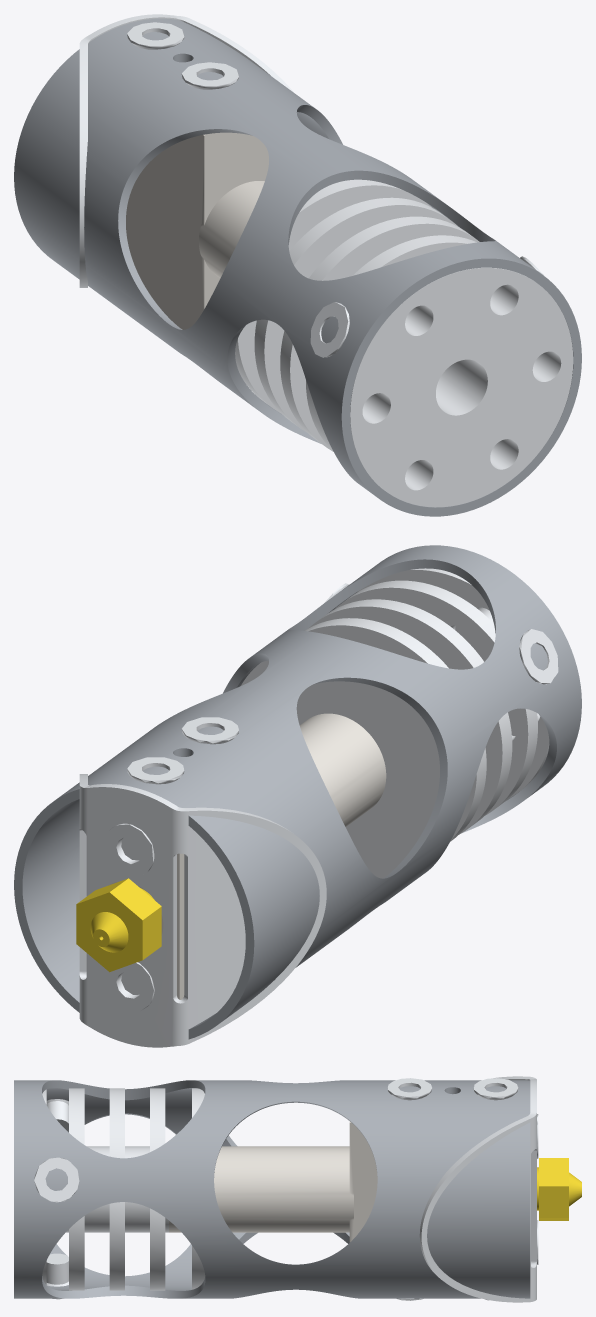
3 views of the same model, one above another, from view 1: azimuth 30°, elevation 25°; view 2: azimuth 150°, elevation 25°; view 3: azimuth 270°, elevation 25° (orthographic). The views are drawn at different scales.
Parts seen in each view (by area): view 1: ti_monocoque_shell, air_heatsink_fins, copper_melt_core, heat_shield, torx_screw_1, torx_screw_3, torx_screw_5; view 2: ti_monocoque_shell, air_heatsink_fins, heat_shield, copper_melt_core, e3d_v6_nozzle, torx_screw_7, torx_screw_8, torx_screw_1, torx_screw_5, torx_screw_3; view 3: ti_monocoque_shell, copper_melt_core, air_heatsink_fins, heat_shield, e3d_v6_nozzle, torx_screw_0, torx_screw_2, torx_screw_5, torx_screw_3, torx_screw_1.
Part boxes in pixels (x1,y1,x2,y2): ti_monocoque_shell: [14, 18, 581, 516]; air_heatsink_fins: [235, 179, 573, 507]; copper_melt_core: [126, 132, 268, 329]; heat_shield: [79, 14, 293, 287]; torx_screw_1: [310, 302, 349, 357]; torx_screw_3: [181, 62, 238, 89]; torx_screw_5: [127, 22, 184, 49]; ti_monocoque_shell: [14, 545, 581, 1039]; air_heatsink_fins: [241, 568, 549, 878]; heat_shield: [79, 774, 326, 1047]; copper_melt_core: [109, 713, 386, 999]; e3d_v6_nozzle: [76, 878, 161, 972]; torx_screw_7: [104, 823, 154, 877]; torx_screw_8: [104, 962, 154, 1011]; torx_screw_1: [519, 629, 558, 684]; torx_screw_5: [127, 757, 184, 784]; torx_screw_3: [182, 717, 238, 744]; ti_monocoque_shell: [14, 1080, 530, 1298]; copper_melt_core: [169, 1121, 377, 1242]; air_heatsink_fins: [42, 1088, 205, 1290]; heat_shield: [419, 1076, 536, 1302]; e3d_v6_nozzle: [537, 1158, 581, 1220]; torx_screw_0: [34, 1157, 79, 1202]; torx_screw_2: [46, 1253, 68, 1299]; torx_screw_5: [473, 1078, 518, 1100]; torx_screw_3: [387, 1078, 432, 1100]; torx_screw_1: [46, 1099, 68, 1130].
Bounding box in the file's own units: 0.0261 × 0.0261 × 0.066.
